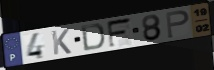4: (23, 32, 47, 61)
8: (141, 14, 163, 42)
D: (80, 23, 107, 52)
F: (106, 16, 134, 50)
K: (50, 28, 73, 57)
P: (164, 9, 191, 40)
